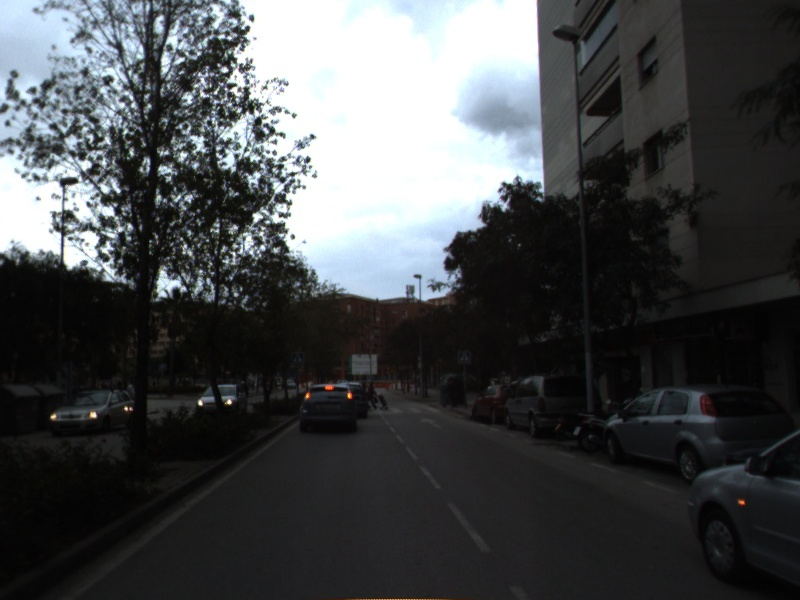STRAIGHT: (418, 416, 445, 431)
